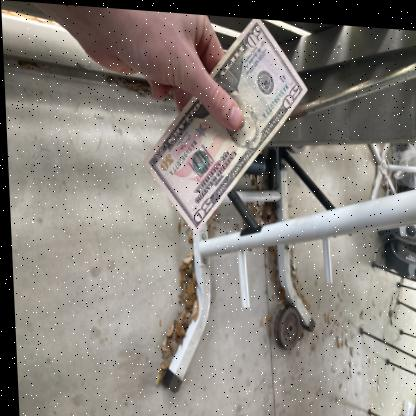fifty-front: (141, 23, 309, 238)
